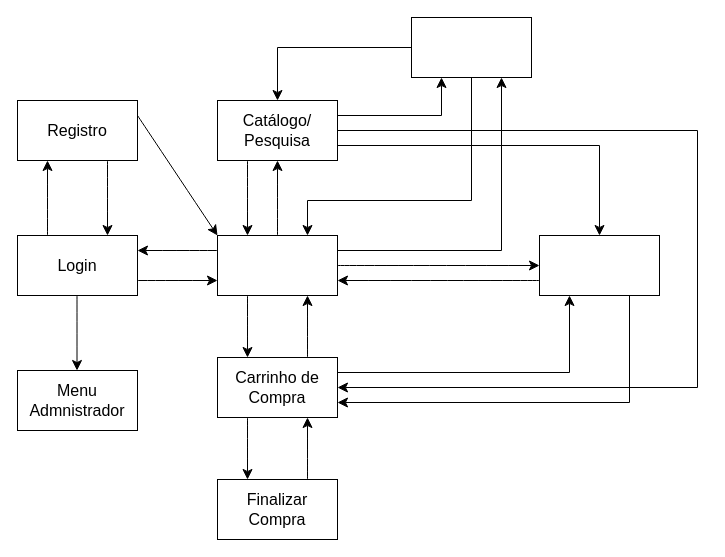
Image size: 725x557. Some labels were removed from this diagram. The shapes that lost their labels are listed below. From the top down, each one's centre as x and y in pixels, then its label:
point 471,47: Produto
point 277,265: Homepage
point 599,265: Editar Perfil
